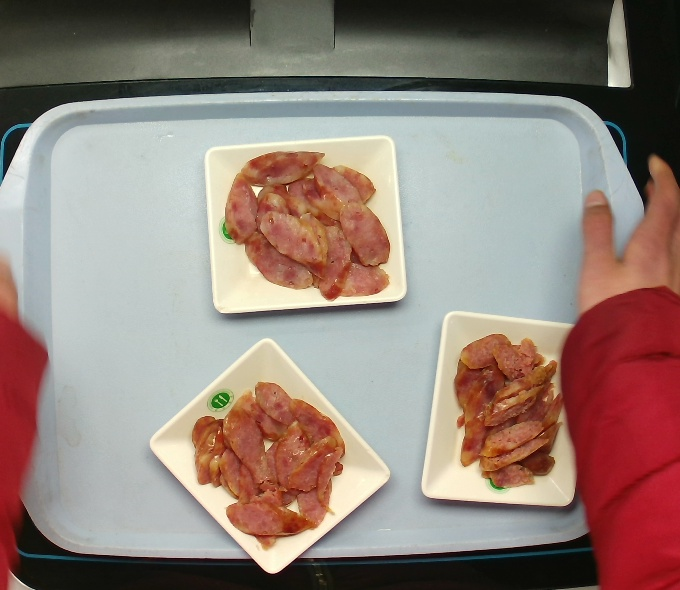wcq-QiePianXiangChang: (182, 371, 351, 556), (216, 140, 399, 307), (422, 324, 583, 498)
